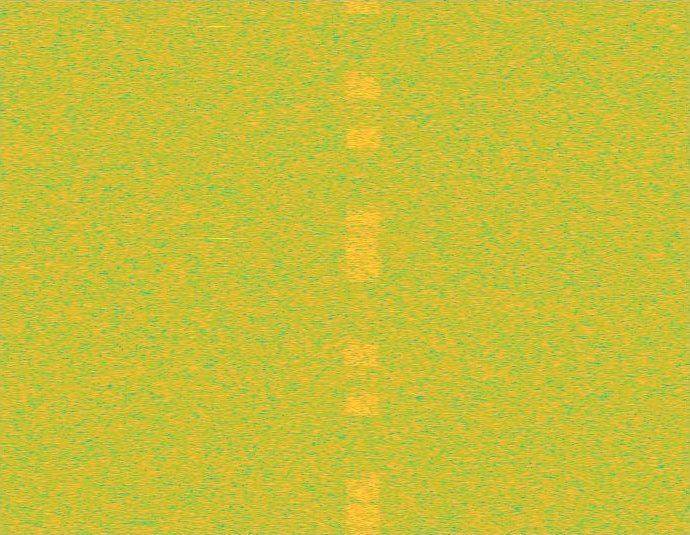LTE: (346, 0, 380, 534)
Radar: (213, 0, 227, 534)
